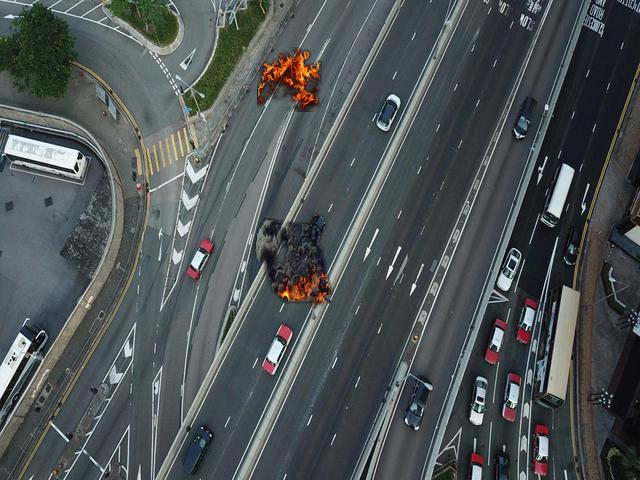fire: (254, 219, 332, 307), (257, 49, 320, 110)
